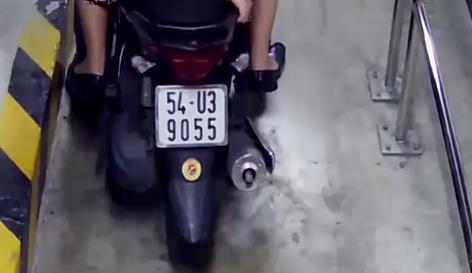lisence: (154, 85, 229, 146)
